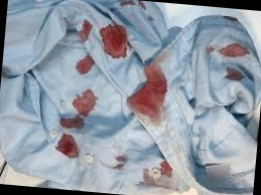blood: (133, 63, 166, 116), (98, 24, 130, 60), (56, 133, 80, 160), (73, 90, 96, 118), (75, 52, 95, 76), (218, 44, 251, 58), (60, 116, 84, 130), (119, 0, 147, 12), (225, 66, 246, 81), (80, 19, 91, 42), (160, 161, 174, 177), (115, 154, 126, 170), (143, 168, 150, 182)
